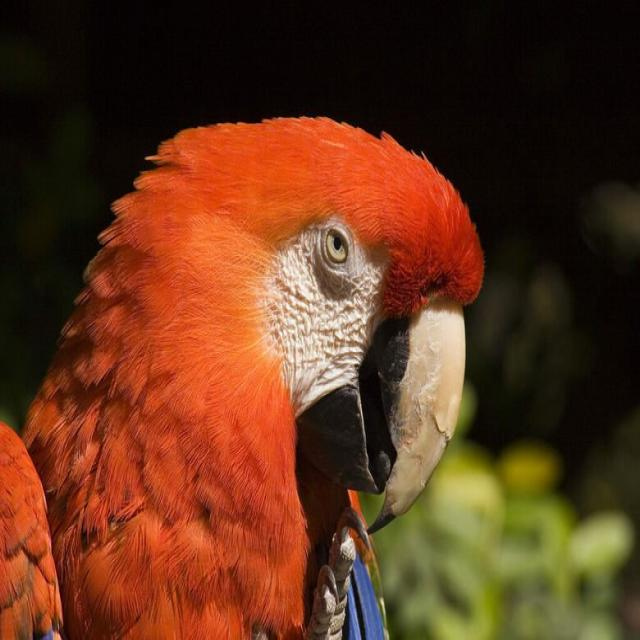Parrot: (0, 111, 489, 640)
